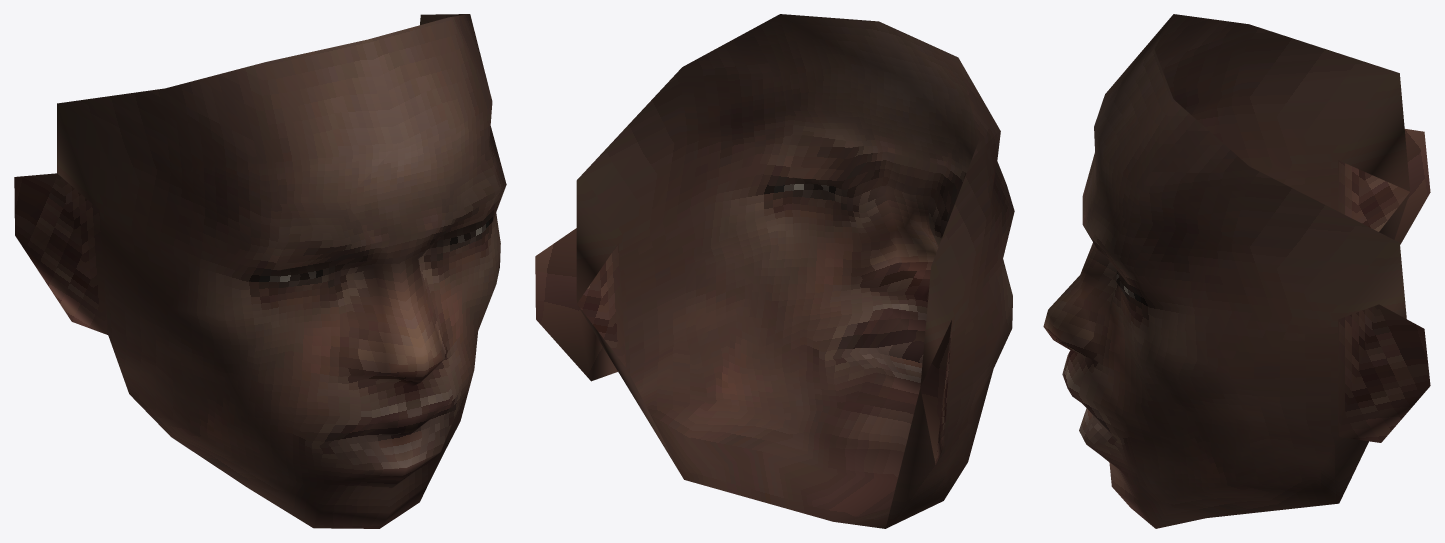
The picture shows the model from 3 angles, left to right: view 1: azimuth 30°, elevation 25°; view 2: azimuth 150°, elevation 25°; view 3: azimuth 270°, elevation 25°; orthographic projection. The views are drawn at different scales.
Visible parts, largest first — view 1: editpl_m-0000-120, editpl_m-0000-119; view 2: editpl_m-0000-120, editpl_m-0000-119; view 3: editpl_m-0000-120, editpl_m-0000-119.
Boxes of the visible parts, <box> form: editpl_m-0000-120: <box>14,14,506,383</box>; editpl_m-0000-119: <box>108,331,477,528</box>; editpl_m-0000-120: <box>535,14,1014,464</box>; editpl_m-0000-119: <box>578,262,993,528</box>; editpl_m-0000-120: <box>1043,14,1430,442</box>; editpl_m-0000-119: <box>1044,192,1409,528</box>.
Size of the model in its own units: 17.18 by 18.64 by 14.26.
1 material, 1 textured.
